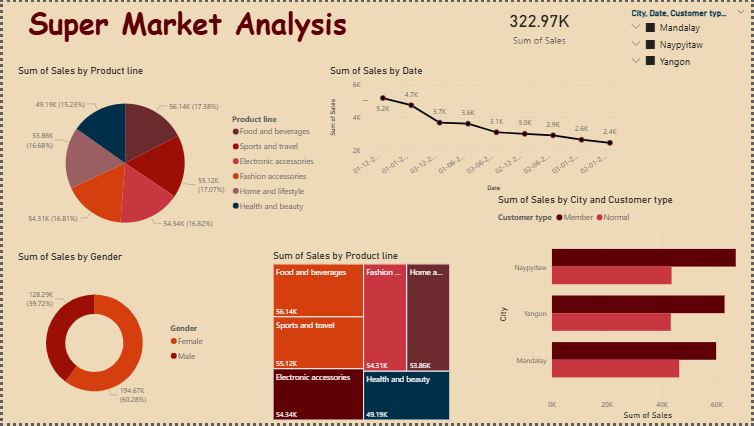

The dashboard page shown, as its layout file describes it:
{"tool":"powerbi","page":{"name":"Page 1","canvas":[1280,720],"ordinal":0},"visuals":[{"type":"textbox","title":"Super Market  Analysis","box":[0,0,630.8,121.2],"z":0},{"type":"card","fields":{"Values":["Sum(Supermarket_Analysis_Dataset.Sales)"]},"box":[807.7,5.8,217.3,71.2],"z":1000},{"type":"donutChart","fields":{"Category":["Supermarket_Analysis_Dataset.Gender"],"Y":["Sum(Supermarket_Analysis_Dataset.Sales)"]},"box":[19.2,425,336.5,294.2],"z":2000},{"type":"pieChart","fields":{"Category":["Supermarket_Analysis_Dataset.Product line"],"Y":["Sum(Supermarket_Analysis_Dataset.Sales)"]},"box":[19.2,107.7,525,315.4],"z":3000},{"type":"lineChart","fields":{"Y":["Sum(Supermarket_Analysis_Dataset.Sales)"],"Category":["Supermarket_Analysis_Dataset.Date"]},"box":[553.8,107.7,507.7,221.2],"z":4000},{"type":"treemap","fields":{"Group":["Supermarket_Analysis_Dataset.Product line"],"Values":["Sum(Supermarket_Analysis_Dataset.Sales)"]},"box":[455.8,423.1,311.5,296.2],"z":5000},{"type":"clusteredBarChart","fields":{"Category":["Supermarket_Analysis_Dataset.City"],"Y":["Sum(Supermarket_Analysis_Dataset.Sales)"],"Series":["Supermarket_Analysis_Dataset.Customer type"]},"box":[840.4,328.8,440.4,390.4],"z":6000},{"type":"slicer","fields":{"Values":["Supermarket_Analysis_Dataset.City","Supermarket_Analysis_Dataset.Date","Supermarket_Analysis_Dataset.Customer type","Supermarket_Analysis_Dataset.Payment","Supermarket_Analysis_Dataset.Product line"]},"box":[1061.5,5.8,219.2,136.5],"z":7000}]}

Visuals, with their boxes in screenshot pixels (x1, y1, x2, y2), scaled from the page's 1280x720 canvas onto the 754x426 screenshot:
"Super Market  Analysis" textbox: BBox(0, 0, 372, 72)
card - Sum(Supermarket_Analysis_Dataset.Sales): BBox(476, 3, 604, 46)
donutChart - Supermarket_Analysis_Dataset.Gender x Sum(Supermarket_Analysis_Dataset.Sales): BBox(11, 251, 210, 425)
pieChart - Supermarket_Analysis_Dataset.Product line x Sum(Supermarket_Analysis_Dataset.Sales): BBox(11, 64, 321, 250)
lineChart - Sum(Supermarket_Analysis_Dataset.Sales) x Supermarket_Analysis_Dataset.Date: BBox(326, 64, 625, 195)
treemap - Supermarket_Analysis_Dataset.Product line x Sum(Supermarket_Analysis_Dataset.Sales): BBox(268, 250, 452, 425)
clusteredBarChart - Supermarket_Analysis_Dataset.City x Sum(Supermarket_Analysis_Dataset.Sales): BBox(495, 195, 753, 425)
slicer - Supermarket_Analysis_Dataset.City x Supermarket_Analysis_Dataset.Date: BBox(625, 3, 753, 84)
